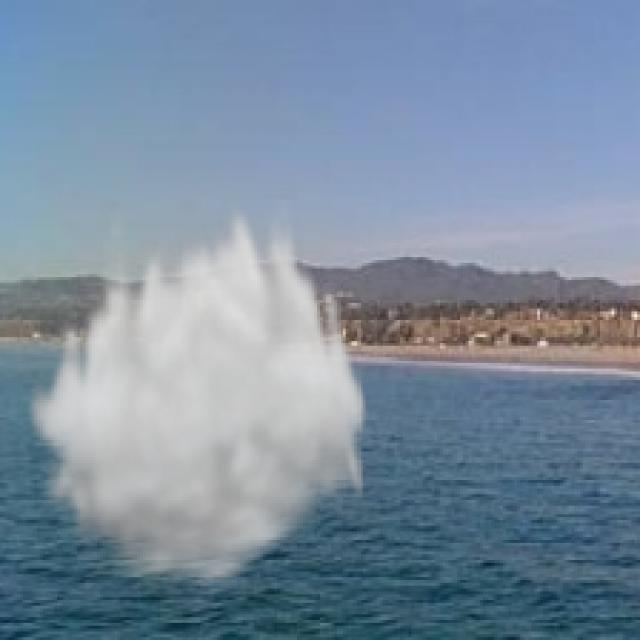smoke: (23, 195, 371, 594)
